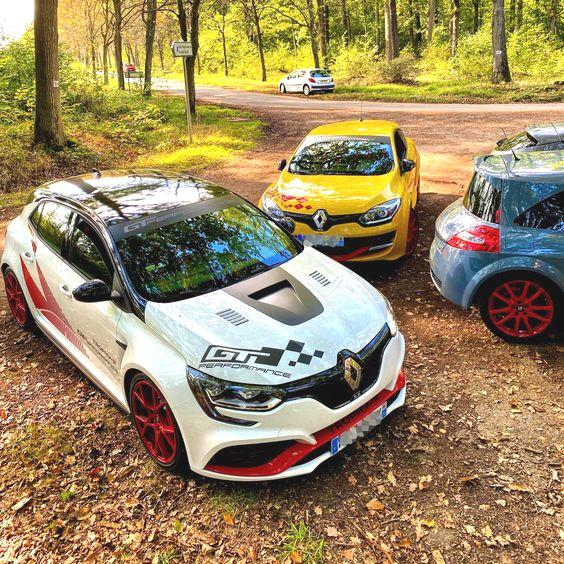Renault: (331, 339, 370, 401), (307, 205, 338, 236)
